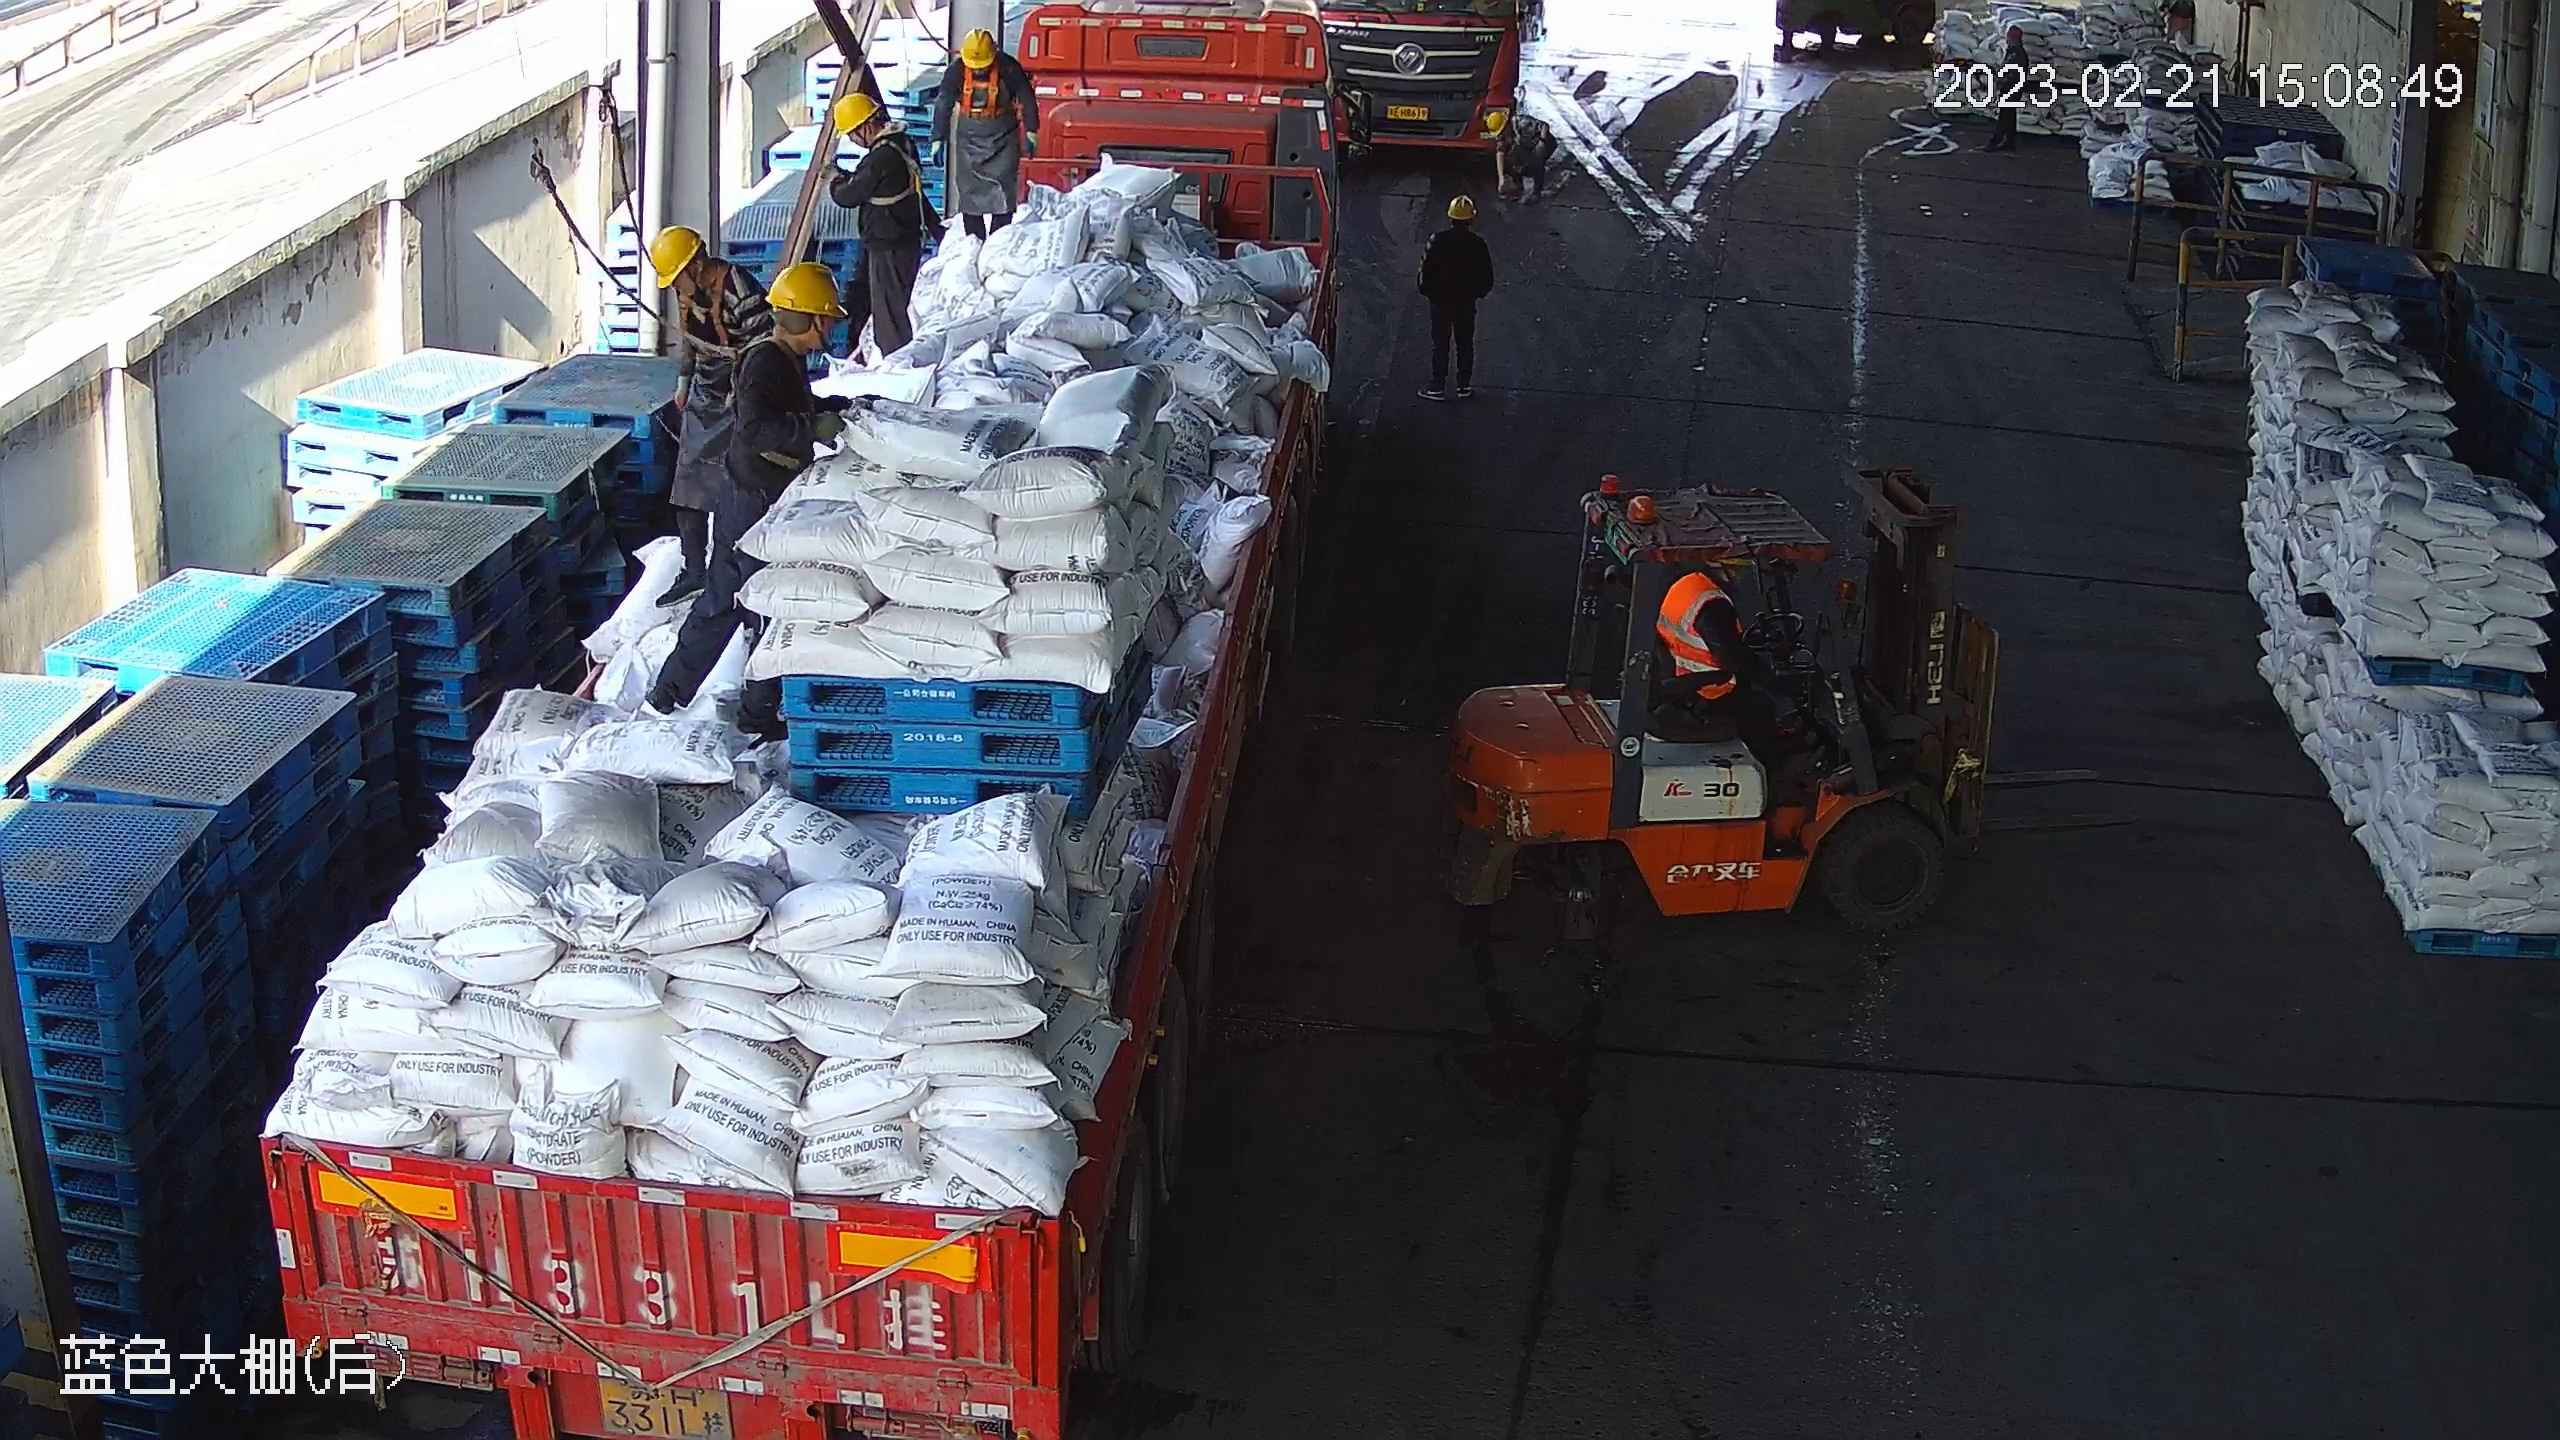head: (735, 260, 851, 388), (650, 223, 768, 311), (831, 91, 924, 175), (934, 23, 1029, 85), (1668, 552, 1750, 618), (1423, 194, 1491, 251)
helmet: (763, 261, 849, 321), (650, 225, 703, 289), (831, 91, 882, 140), (959, 25, 998, 71), (1446, 195, 1477, 221), (1486, 110, 1511, 138)
people: (637, 262, 851, 715), (1649, 554, 1822, 864), (648, 225, 778, 609), (829, 91, 924, 363), (929, 22, 1041, 240), (1412, 193, 1496, 404)
truck: (254, 1, 1343, 1437)
